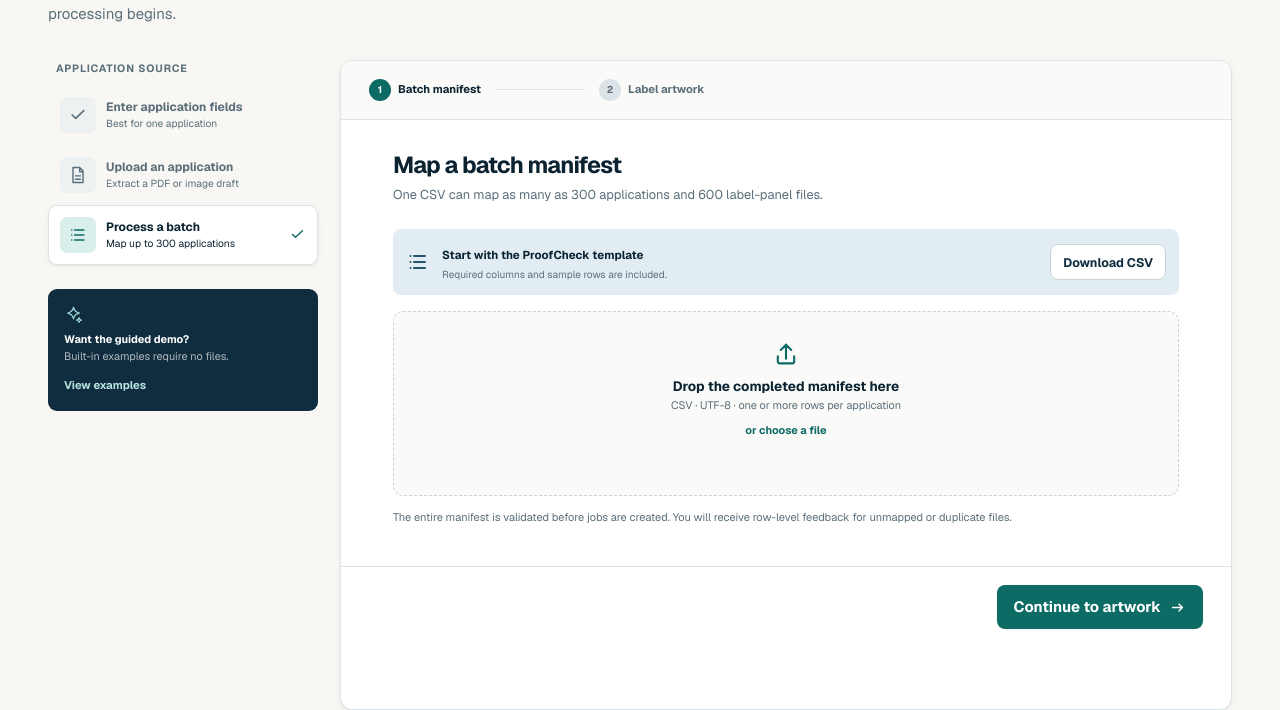
Scenario: SubmitWizard › requires a manifest before entering the batch artwork step
(page scrolled)
Click the button "Continue to artwork" at (1100, 607), box [996, 585, 1203, 629]
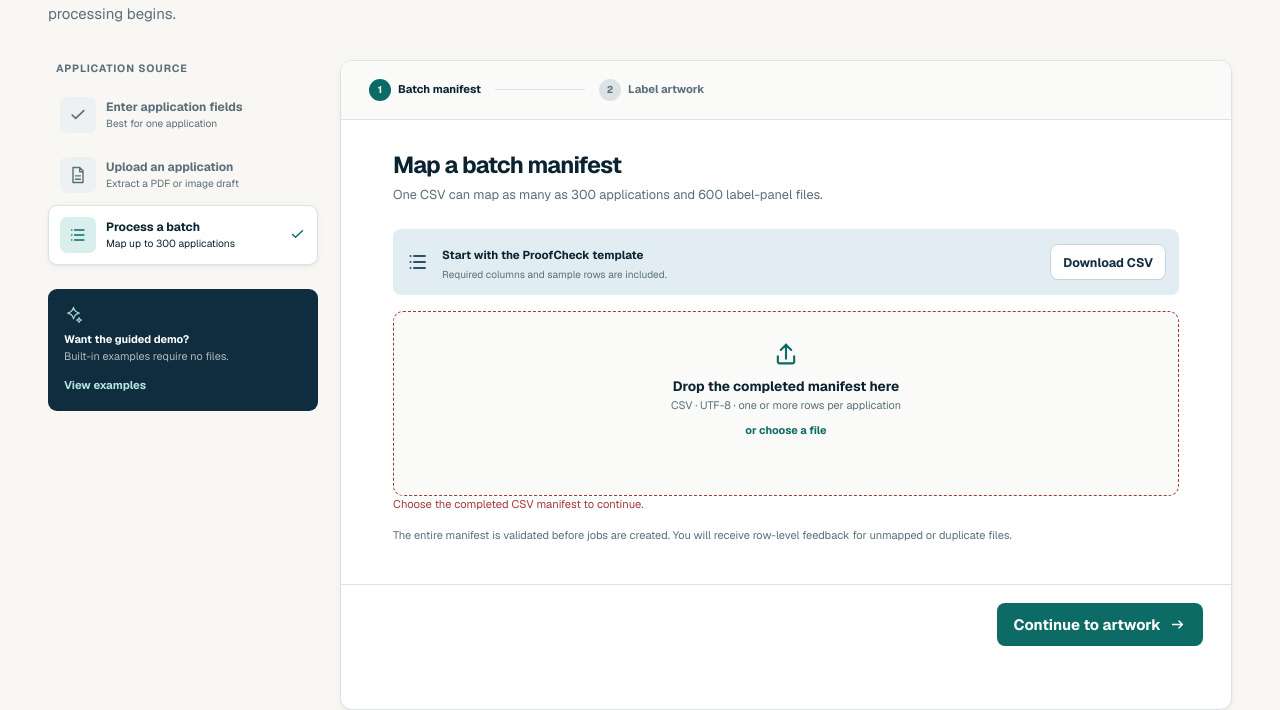
Expected: the heading "Map a batch manifest" is shown, [393, 150, 621, 180]
Now the message shows "Choose the completed CSV manifest", box [393, 497, 644, 511]
